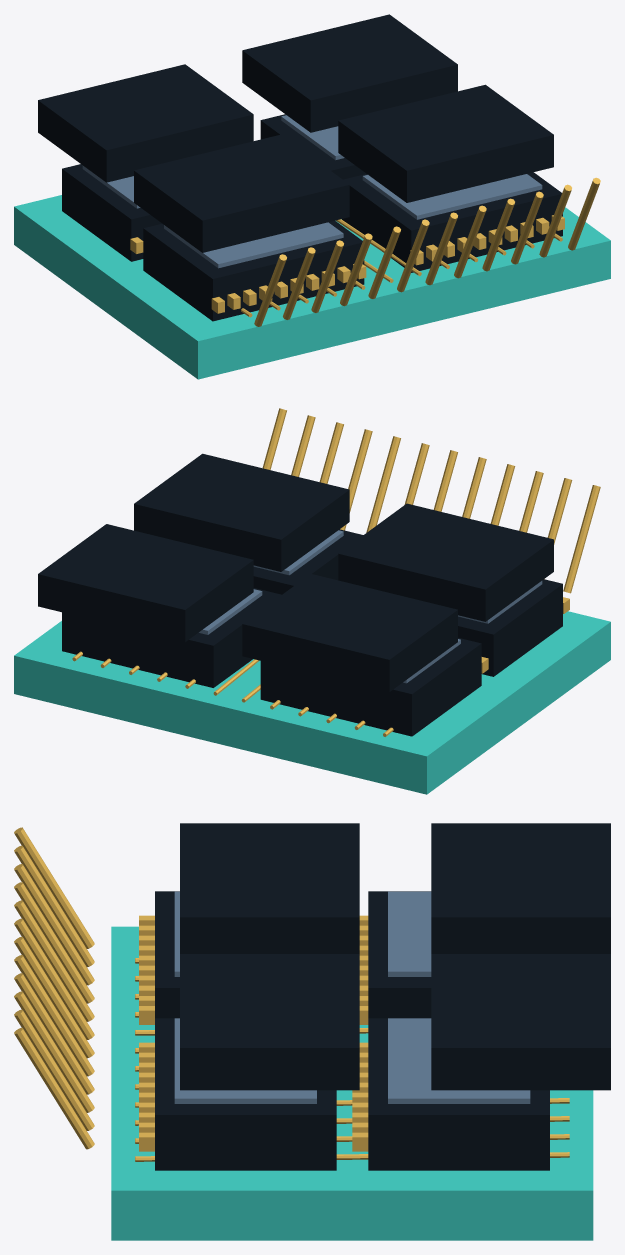
The model's file is 03_L83_FourChipletMissionComputerPayload.fbx.
The picture shows the model from 3 angles, top to bottom: view 1: azimuth 30°, elevation 25°; view 2: azimuth 150°, elevation 25°; view 3: azimuth 270°, elevation 25°; orthographic projection. The views are drawn at different scales.
Visible parts, largest first — view 1: FourChipletMissionComputerPayload; view 2: FourChipletMissionComputerPayload; view 3: FourChipletMissionComputerPayload.
Part boxes in pixels (x1=…): FourChipletMissionComputerPayload: x1=14, y1=14, x2=610, y2=379; FourChipletMissionComputerPayload: x1=14, y1=408, x2=610, y2=794; FourChipletMissionComputerPayload: x1=14, y1=823, x2=610, y2=1240.
Bounding box in the file's own units: 174 × 55.43 × 166.
